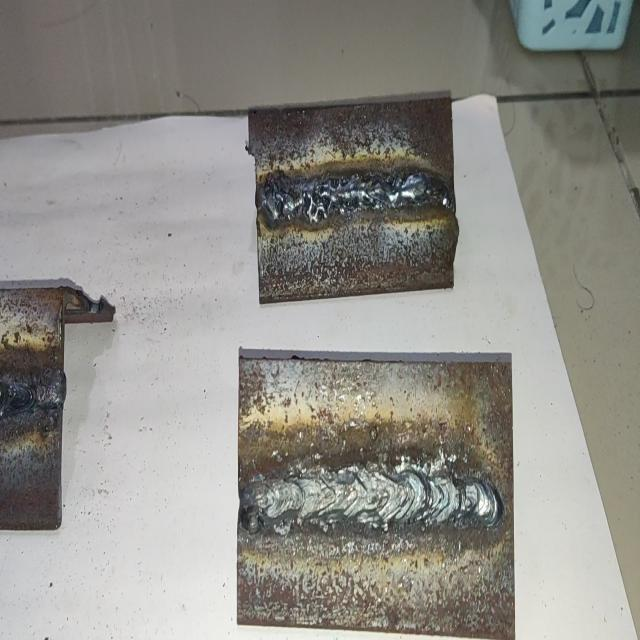Bad Weld: (257, 171, 449, 218)
Defect: (264, 166, 404, 224), (0, 364, 66, 420)
Good Weld: (240, 456, 502, 542)
